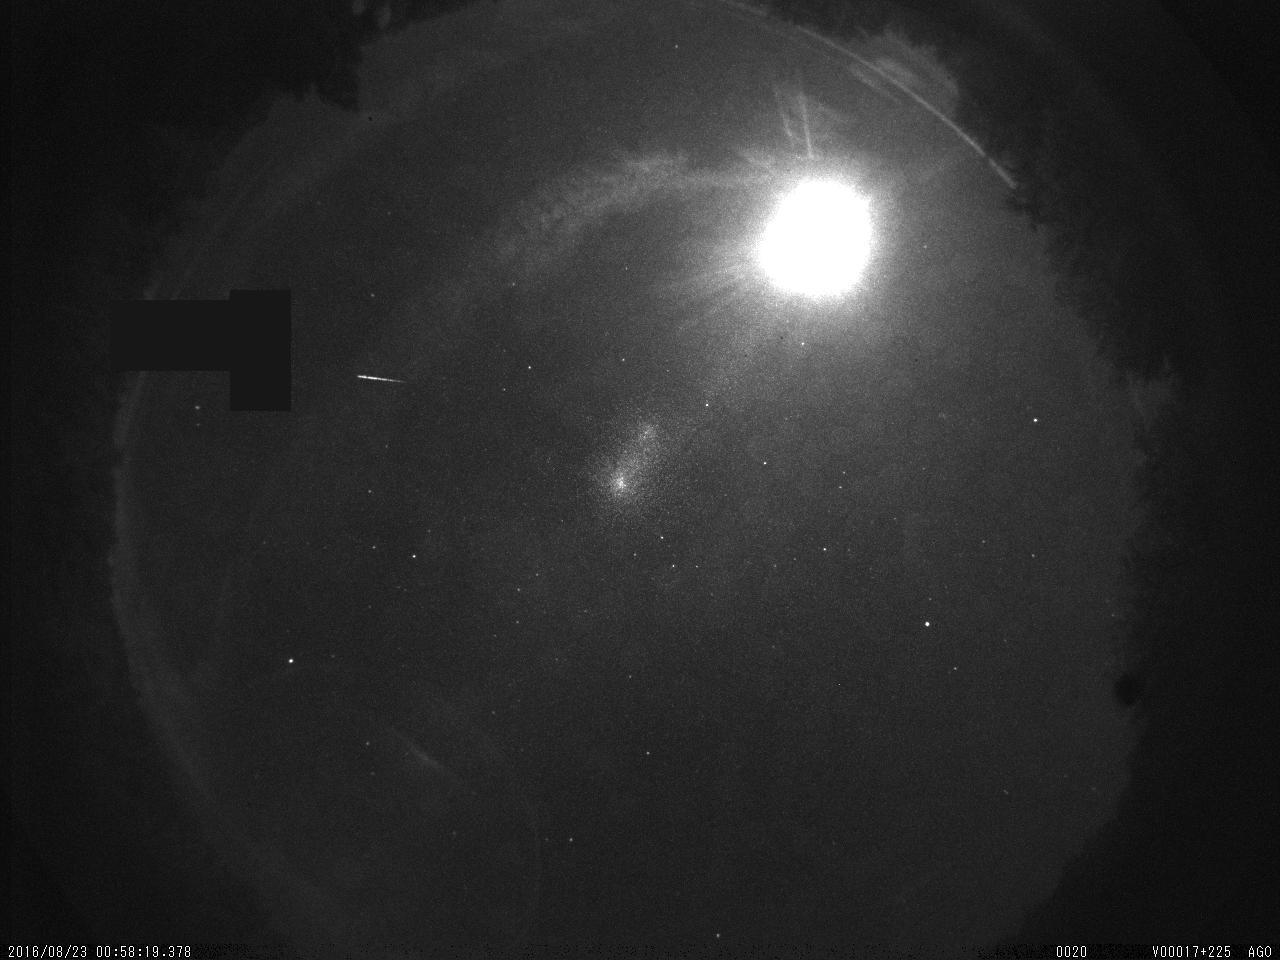meteor: (351, 363, 407, 393)
